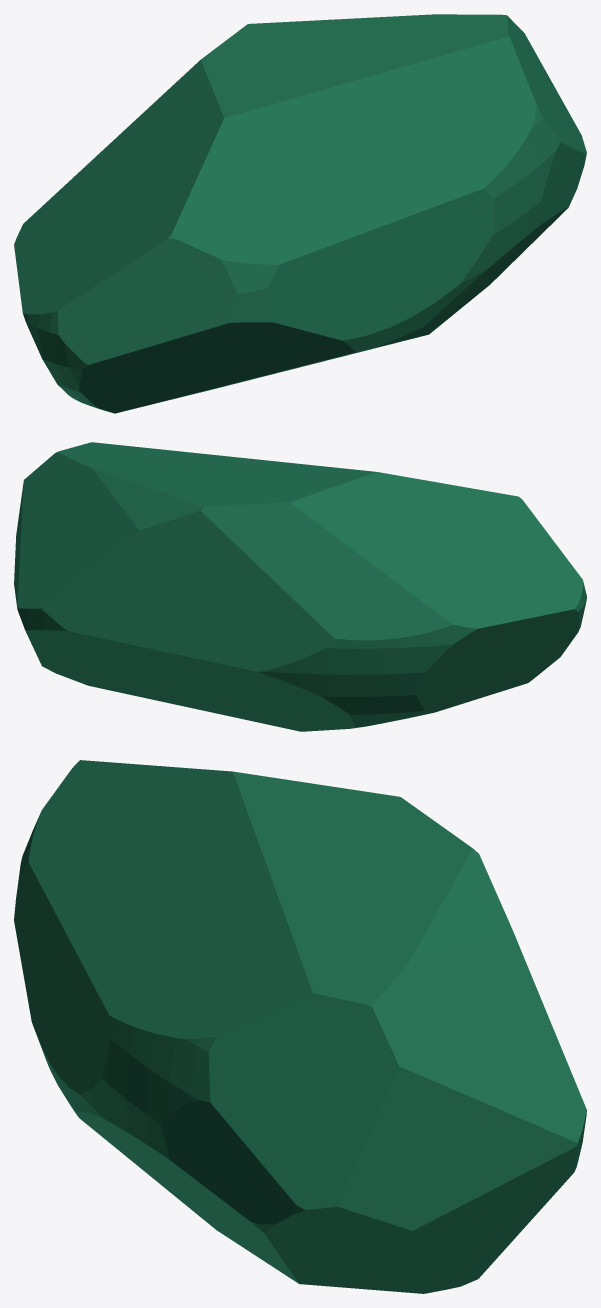
The model's file is Moita2.fbx.
3 renders of one model, top to bottom at view 1: azimuth 30°, elevation 25°; view 2: azimuth 150°, elevation 25°; view 3: azimuth 270°, elevation 25°, orthographic. The views are drawn at different scales.
Visible parts, largest first — view 1: Sphere.005; view 2: Sphere.005; view 3: Sphere.005.
Boxes of the visible parts, left/top/right/bottom form: Sphere.005: left=14, top=14, right=586, bottom=413; Sphere.005: left=14, top=442, right=586, bottom=731; Sphere.005: left=14, top=760, right=586, bottom=1293.
Size of the model in its own units: 716 by 318 by 446.
